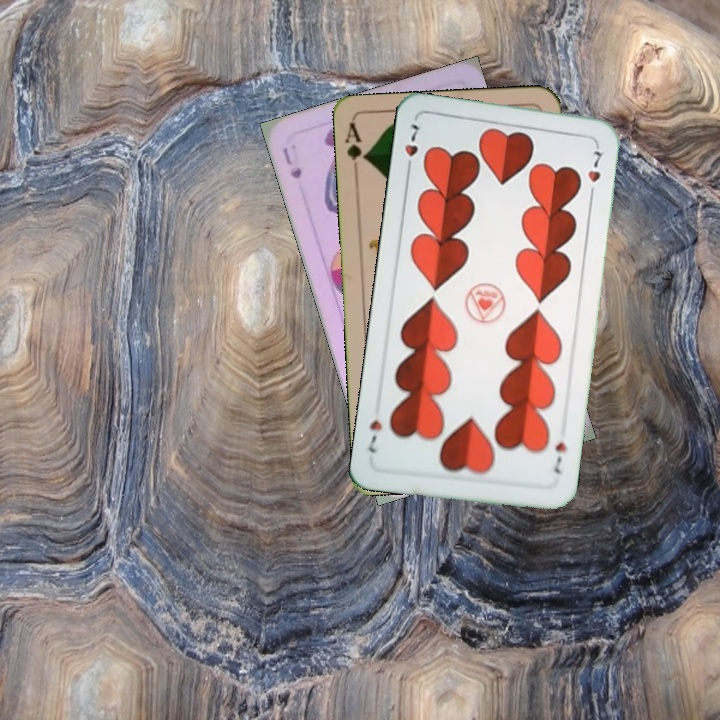GA: (341, 120, 370, 179)
H7: (400, 120, 422, 176), (550, 438, 569, 476)
SU: (278, 143, 305, 182)
